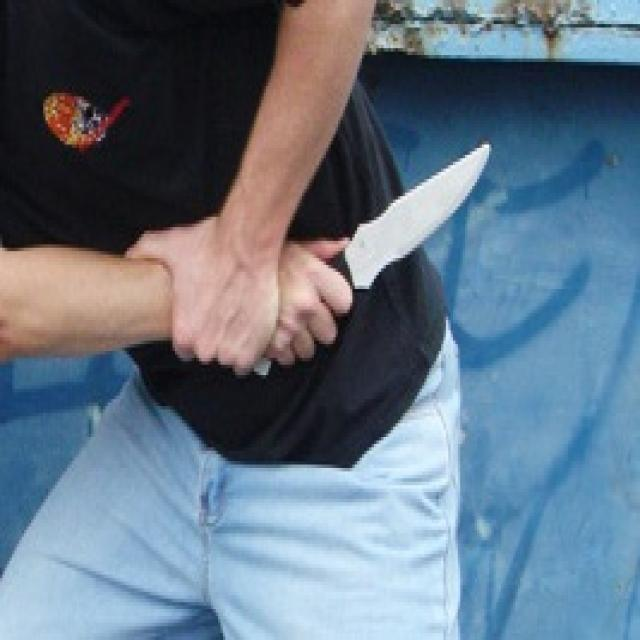knife: (322, 141, 500, 297)
